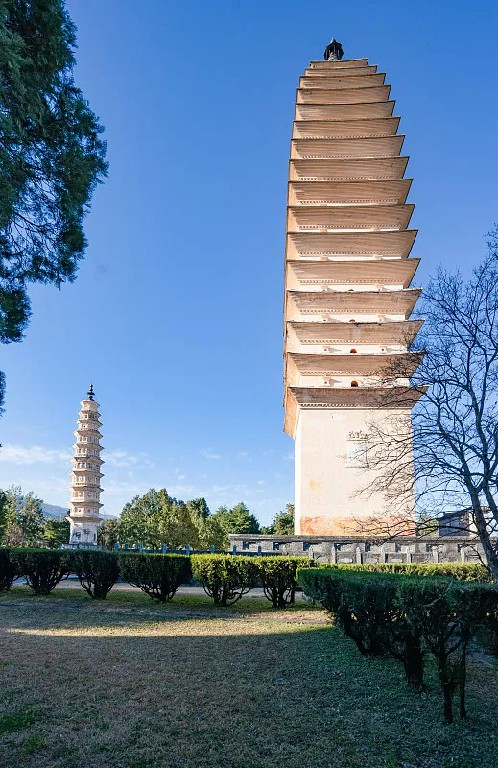ThreePagoda: (282, 36, 430, 537)
